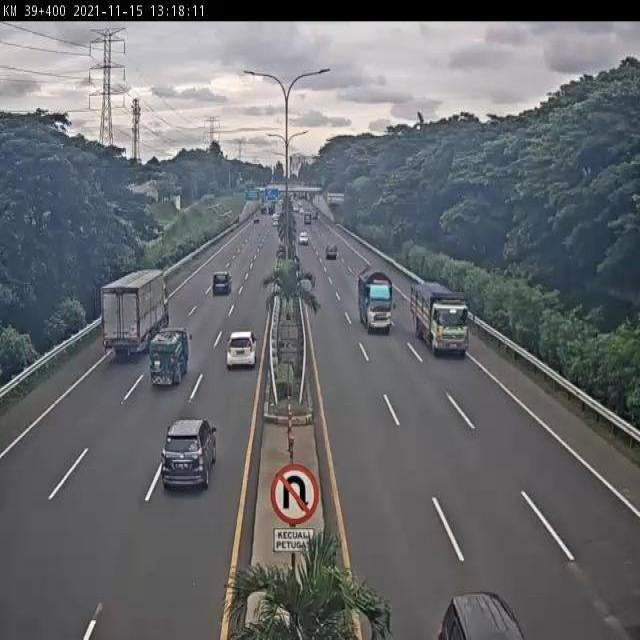car: (159, 414, 220, 494), (225, 329, 258, 368), (211, 269, 232, 296)
truck-l-: (101, 268, 168, 361), (409, 278, 470, 358)
truck-m-: (147, 325, 192, 387), (357, 263, 393, 333)
